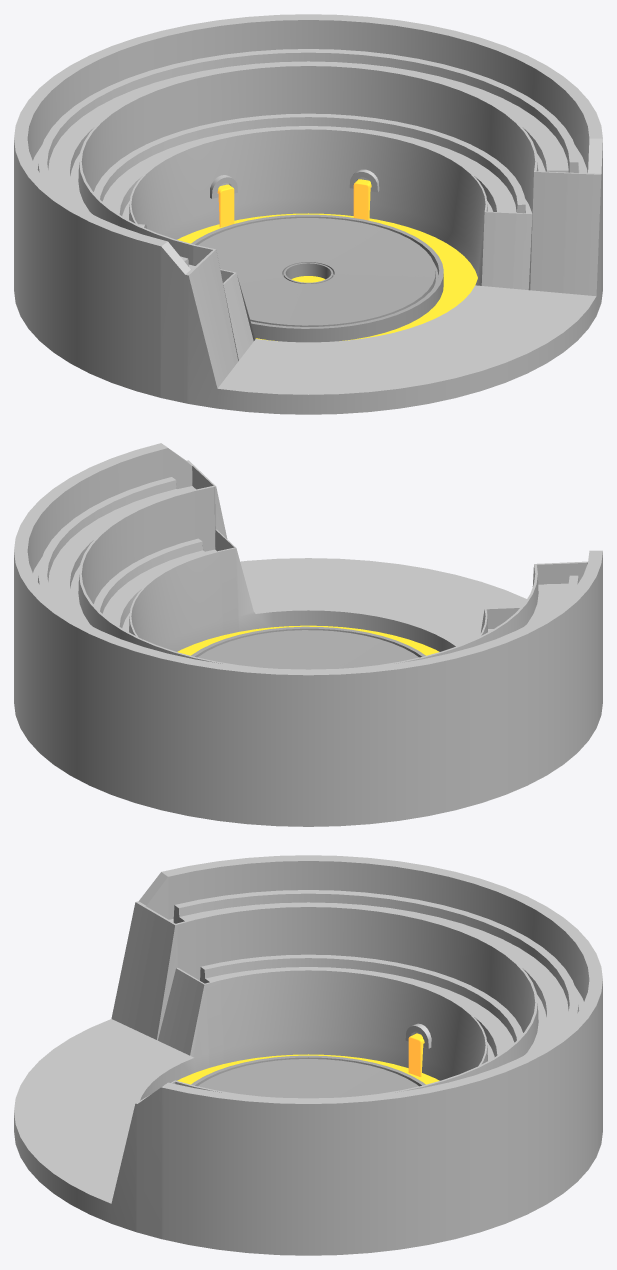
File: ArenaColiseu.fbx
The picture shows the model from 3 angles, top to bottom: view 1: azimuth 30°, elevation 25°; view 2: azimuth 150°, elevation 25°; view 3: azimuth 270°, elevation 25°; orthographic projection.
Parts seen in each view (by area): view 1: arena, plataforma, lava, lava1, lava3; view 2: arena, plataforma, lava; view 3: arena, plataforma, lava, lava2.
Boxes of the visible parts, x1=… form: arena: x1=14, y1=14, x2=602, y2=414; plataforma: x1=191, y1=214, x2=443, y2=342; lava: x1=177, y1=213, x2=477, y2=341; lava1: x1=353, y1=179, x2=371, y2=220; lava3: x1=217, y1=184, x2=234, y2=227; arena: x1=14, y1=443, x2=602, y2=826; plataforma: x1=191, y1=626, x2=425, y2=669; lava: x1=177, y1=625, x2=439, y2=655; arena: x1=14, y1=855, x2=602, y2=1255; plataforma: x1=191, y1=1055, x2=425, y2=1098; lava: x1=177, y1=1054, x2=439, y2=1084; lava2: x1=408, y1=1033, x2=424, y2=1076.
Size of the model in its own units: 3357 by 954 by 3357.
